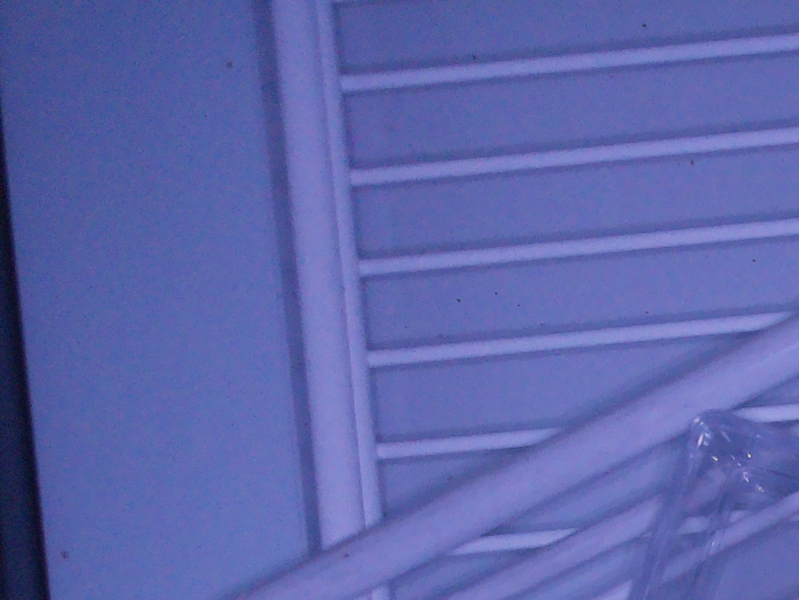plate: (623, 409, 799, 600)
